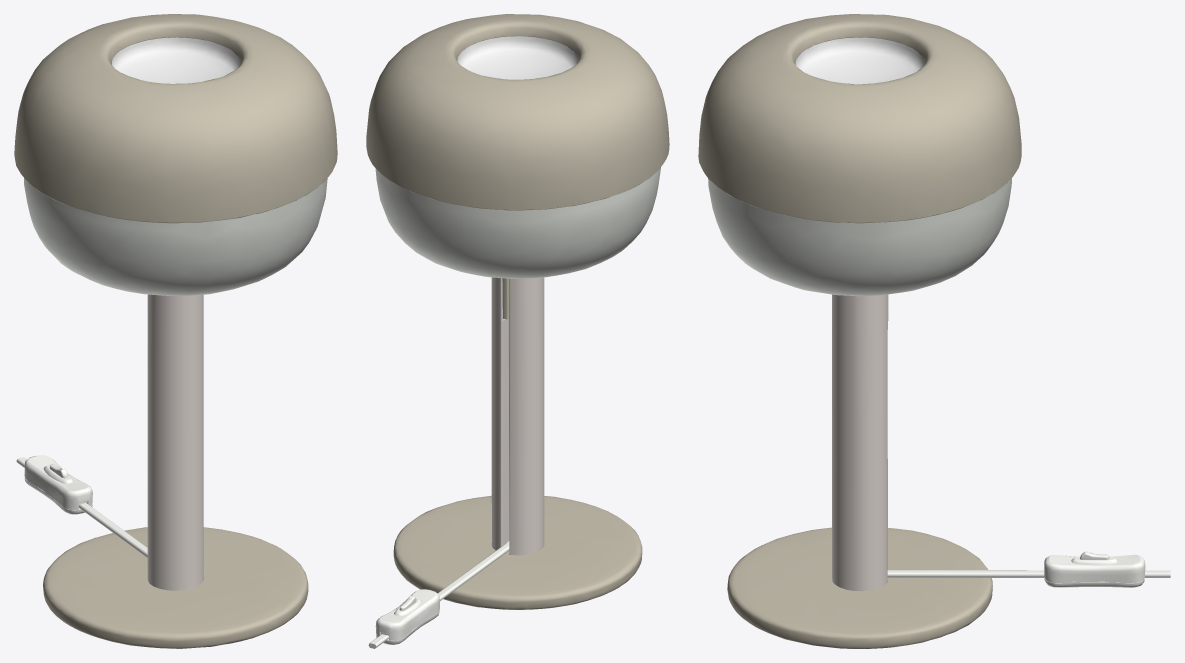
The model's file is BLÅSVERK table lamp.glb.
3 renders of one model, left to right at view 1: azimuth 30°, elevation 25°; view 2: azimuth 150°, elevation 25°; view 3: azimuth 270°, elevation 25°, orthographic. The views are drawn at different scales.
Visible parts, largest first — view 1: 70520926-BLÃƒâ€¦SVERK001; view 2: 70520926-BLÃƒâ€¦SVERK001; view 3: 70520926-BLÃƒâ€¦SVERK001.
Boxes of the visible parts, <box> form: 70520926-BLÃƒâ€¦SVERK001: <box>14,14,337,648</box>; 70520926-BLÃƒâ€¦SVERK001: <box>366,14,669,648</box>; 70520926-BLÃƒâ€¦SVERK001: <box>698,14,1170,648</box>.
Size of the model in its own units: 0.1948 by 0.3595 by 0.2842.
1 material, 1 textured.
